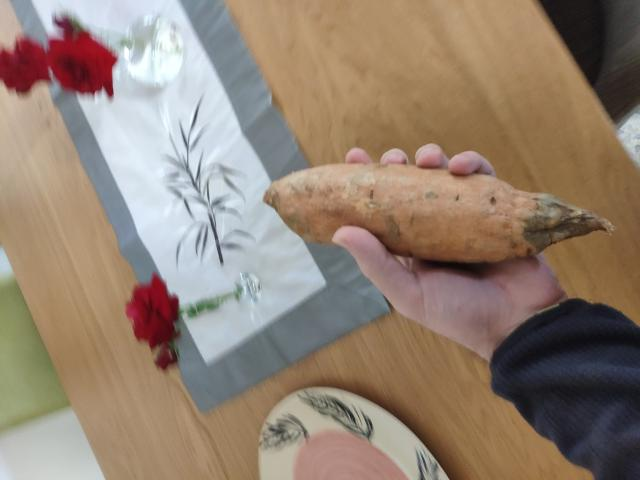sweet_potato: (254, 148, 582, 292)
